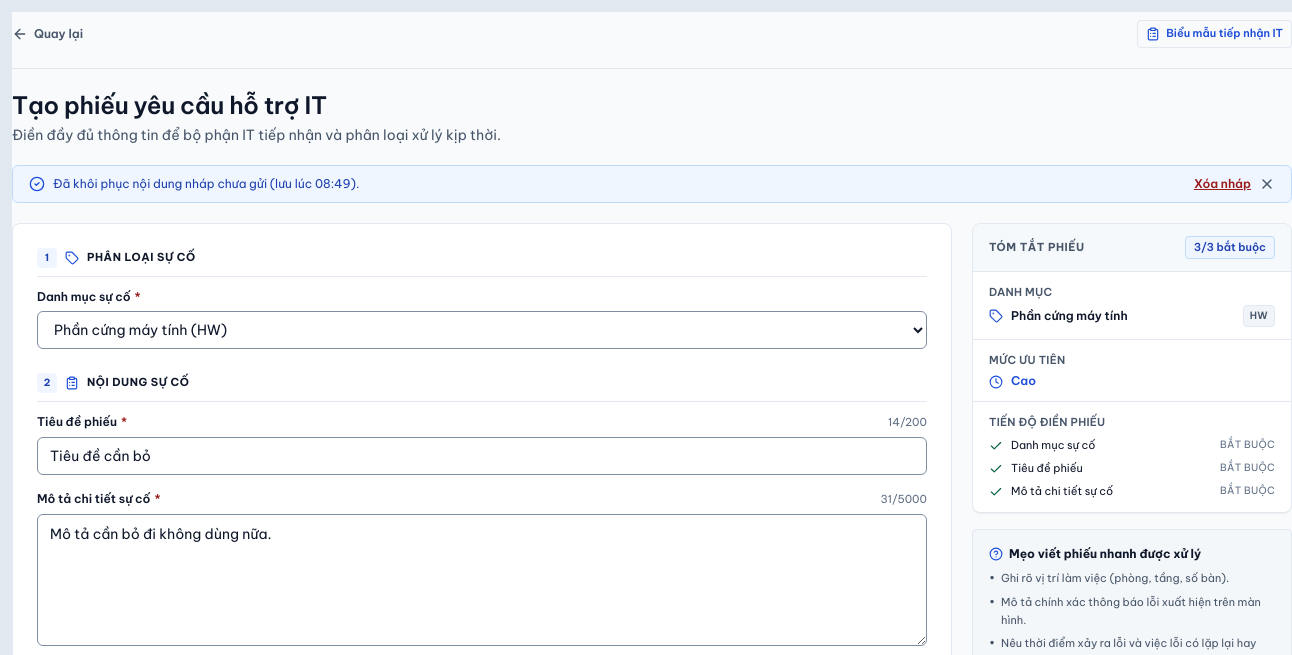
Scenario: CreateTicketPage Draft Auto-Save & Restore › clears draft and resets form fields on "Xóa nháp" click
This screenshot has width=1292, height=655.
Expected: the text "Đã khôi phục nội dung nháp chưa gửi (lưu lúc 08:49)." is shown, [53,176,360,192]
Click the button "Xóa nháp" at (1222, 184), box [1194,176,1251,192]
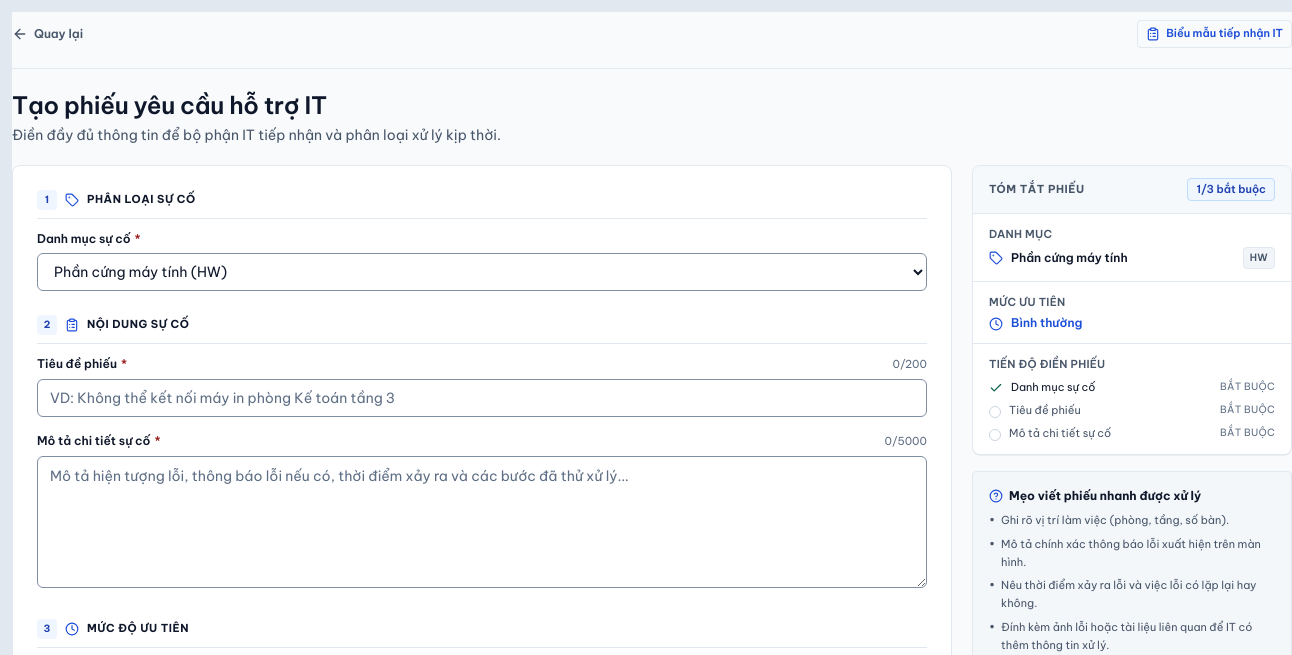
Expected: the text "Đã khôi phục nội dung nháp chưa gửi" is gone
Expected: the field labelled "Tiêu đề phiếu *" is empty, [37,379,927,417]
